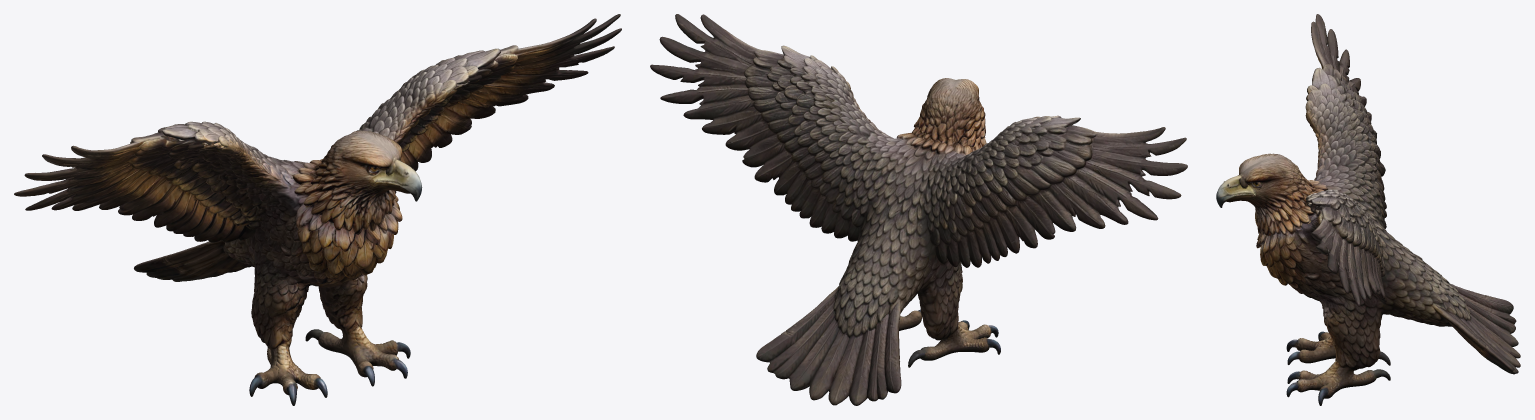
The model's file is H38-web.glb.
3 renders of one model, left to right at view 1: azimuth 30°, elevation 25°; view 2: azimuth 150°, elevation 25°; view 3: azimuth 270°, elevation 25°, orthographic. The views are drawn at different scales.
Parts seen in each view (by area): view 1: tripo_node_9718da23-00a0-4ada-b5dd-38629ae38e60; view 2: tripo_node_9718da23-00a0-4ada-b5dd-38629ae38e60; view 3: tripo_node_9718da23-00a0-4ada-b5dd-38629ae38e60.
Part boxes in pixels (x1,y1,x2,y2): tripo_node_9718da23-00a0-4ada-b5dd-38629ae38e60: (14,14,621,405); tripo_node_9718da23-00a0-4ada-b5dd-38629ae38e60: (650,14,1187,405); tripo_node_9718da23-00a0-4ada-b5dd-38629ae38e60: (1216,14,1520,405).
Bounding box in the file's own units: 0.6 × 0.2853 × 0.3183.
1 material, 1 textured.
